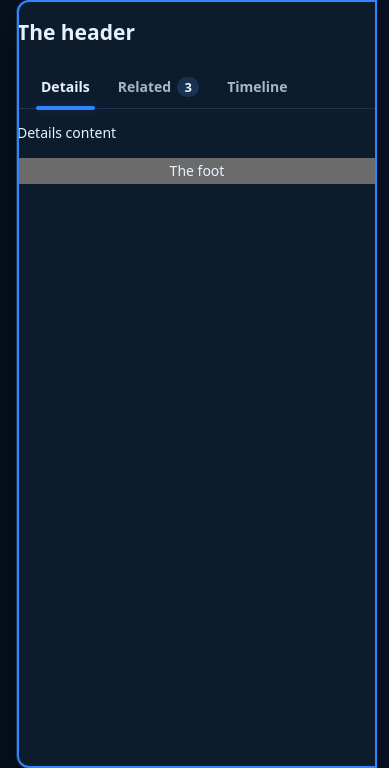
InspectorFrame › with several tabs › shows the content of the tab that is clicked, and names the panel by it
This screenshot has width=389, height=768.
Click the tab "Timeline" at [257, 87], box [215,65,300,109]
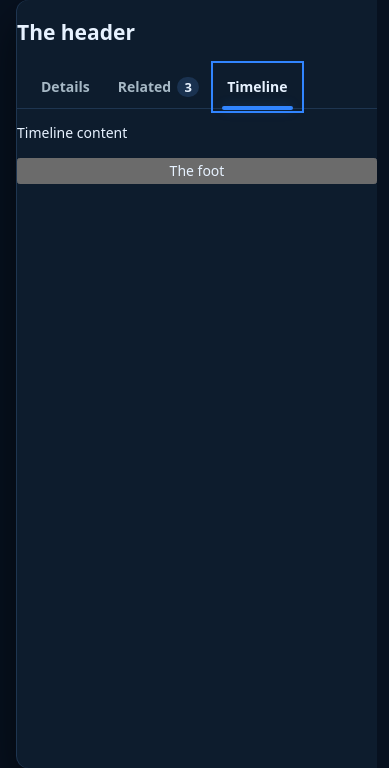
Now the text "Timeline content" is shown, box [17,123,127,142]
Now the text "Details content" is gone
